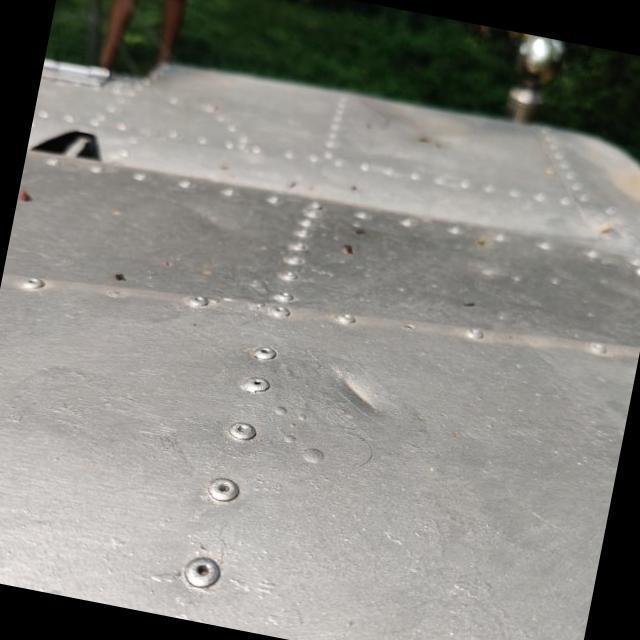Dent: (297, 336, 422, 458)
